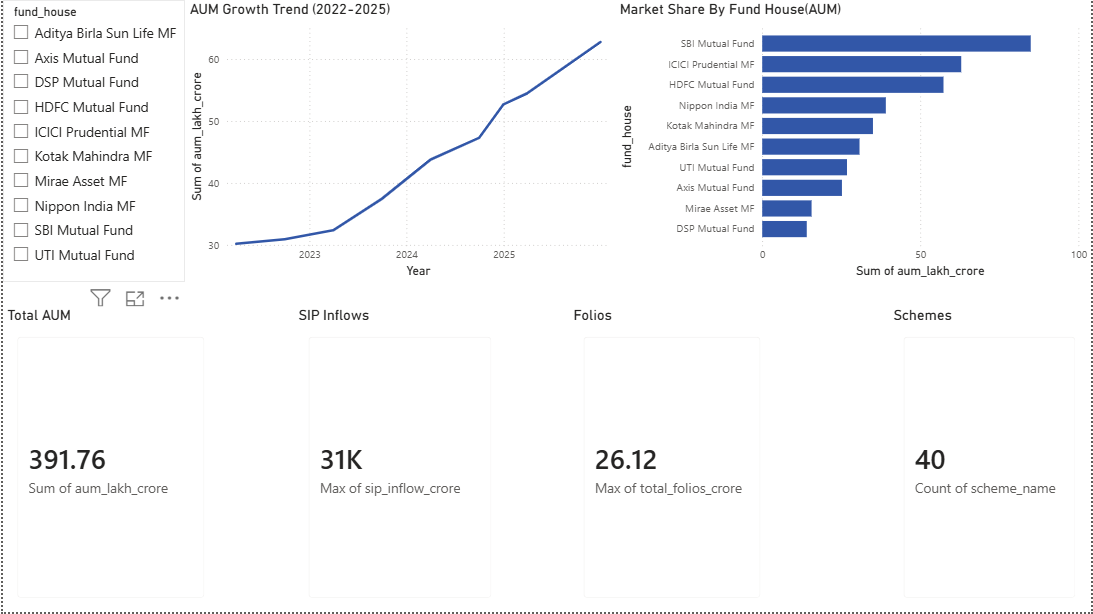

Layout of this report page (visuals, bound fields, positions):
{"tool":"powerbi","page":{"name":"Industry Overview","canvas":[1280,720],"ordinal":0},"visuals":[{"type":"clusteredBarChart","title":"Market Share By Fund House(AUM)","fields":{"Y":["Sum(AUM by Fund House.aum_lakh_crore)"],"Category":["AUM by Fund House.fund_house"]},"box":[720.4,0,559.9,332.1],"z":0},{"type":"lineChart","title":"AUM Growth Trend (2022-2025)","fields":{"Category":["AUM by Fund House.date.Variation.Date Hierarchy.Year","AUM by Fund House.date.Variation.Date Hierarchy.Quarter","AUM by Fund House.date.Variation.Date Hierarchy.Month","AUM by Fund House.date.Variation.Date Hierarchy.Day"],"Y":["Sum(AUM by Fund House.aum_lakh_crore)"]},"box":[214.1,0,506.3,332.1],"z":1000},{"type":"slicer","fields":{"Values":["AUM by Fund House.fund_house"]},"box":[0,0,214.1,332.1],"z":2000},{"type":"cardVisual","title":"Total AUM","fields":{"Data":["Sum(AUM by Fund House.aum_lakh_crore)"]},"box":[0,360.3,254.4,360.3],"z":3000},{"type":"cardVisual","title":"SIP Inflows","fields":{"Data":["Max(Monthly SIP Inflows.sip_inflow_crore)"]},"box":[342.6,360.3,250,360.3],"z":4000},{"type":"cardVisual","title":"Folios","fields":{"Data":["Max(Industry Folio Count.total_folios_crore)"]},"box":[666.2,360.3,242.6,360.3],"z":5000},{"type":"cardVisual","title":"Schemes","fields":{"Data":["Count(Scheme Performance.scheme_name)"]},"box":[1042.6,360.3,236.8,360.3],"z":6000}]}

Visuals, with their boxes in screenshot pixels (x1, y1, x2, y2), scaled from the page's 1280x720 canvas onto the 1093x614 screenshot:
"Market Share By Fund House(AUM)" clusteredBarChart: (x1=615, y1=0, x2=1092, y2=283)
"AUM Growth Trend (2022-2025)" lineChart: (x1=183, y1=0, x2=615, y2=283)
slicer - AUM by Fund House.fund_house: (x1=0, y1=0, x2=183, y2=283)
"Total AUM" cardVisual: (x1=0, y1=307, x2=217, y2=613)
"SIP Inflows" cardVisual: (x1=293, y1=307, x2=506, y2=613)
"Folios" cardVisual: (x1=569, y1=307, x2=776, y2=613)
"Schemes" cardVisual: (x1=890, y1=307, x2=1092, y2=613)
